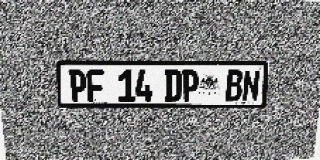1: (118, 70, 135, 102)
4: (135, 70, 152, 102)
B: (225, 70, 243, 101)
D: (165, 70, 182, 101)
F: (86, 70, 105, 102)
N: (242, 70, 260, 101)
P: (68, 70, 87, 102), (182, 70, 199, 101)
